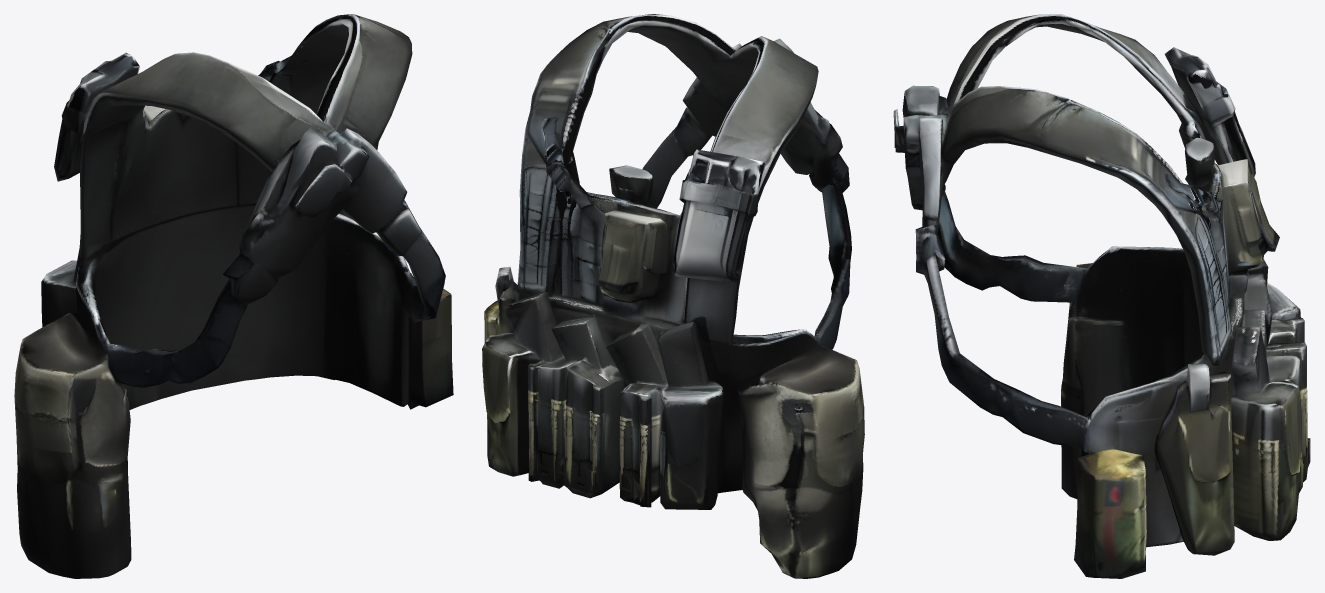
File: blackrock.fbx
The picture shows the model from 3 angles, left to right: view 1: azimuth 30°, elevation 25°; view 2: azimuth 150°, elevation 25°; view 3: azimuth 270°, elevation 25°; orthographic projection. The views are drawn at different scales.
Parts seen in each view (by area): view 1: tripo_node_25d85c10; view 2: tripo_node_25d85c10; view 3: tripo_node_25d85c10.
Boxes of the visible parts, left/top/right/bottom form: tripo_node_25d85c10: left=14, top=14, right=453, bottom=578; tripo_node_25d85c10: left=482, top=14, right=864, bottom=578; tripo_node_25d85c10: left=893, top=14, right=1310, bottom=578.
Size of the model in its own units: 0.8414 by 1 by 0.7172.
